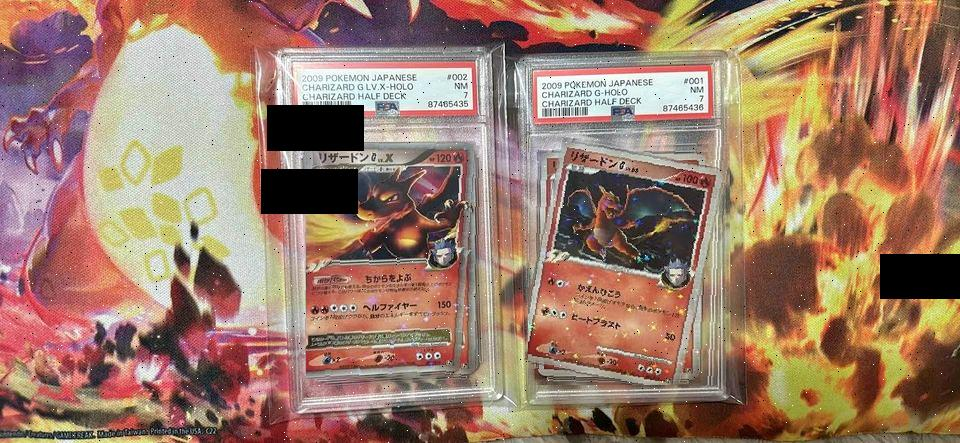card: (528, 141, 725, 385), (306, 142, 475, 379)
